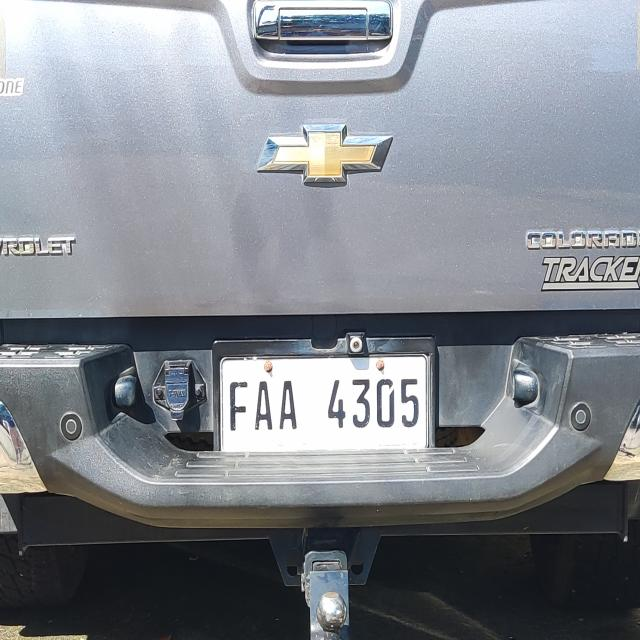plate: (216, 352, 433, 459)
